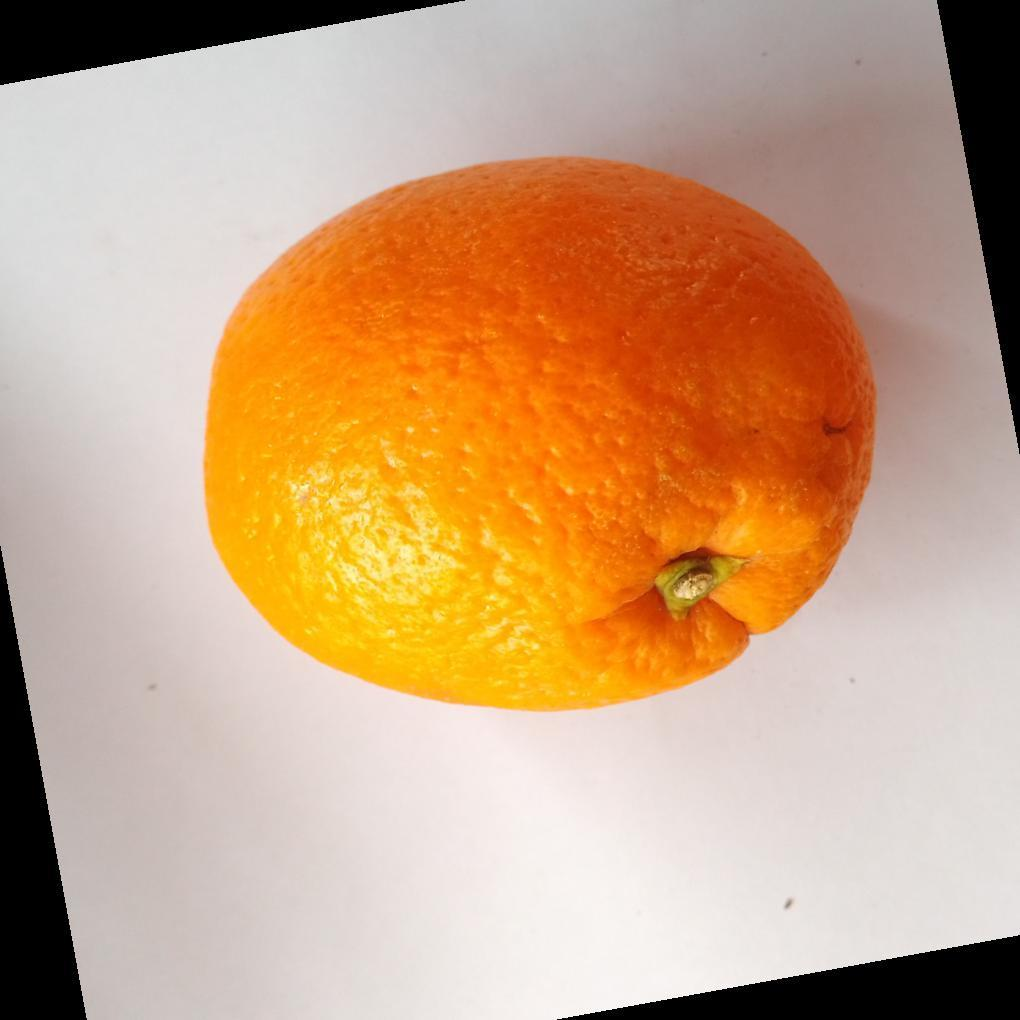FreshGuava: (200, 157, 878, 717)
